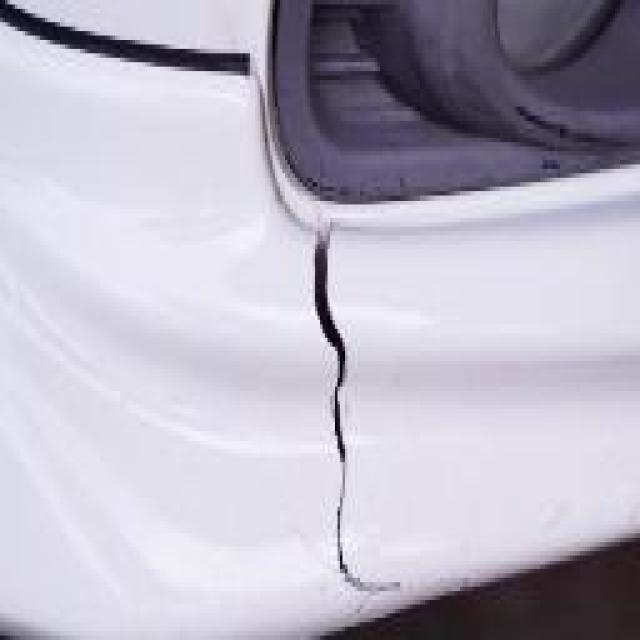Bumper: (302, 209, 418, 591)
